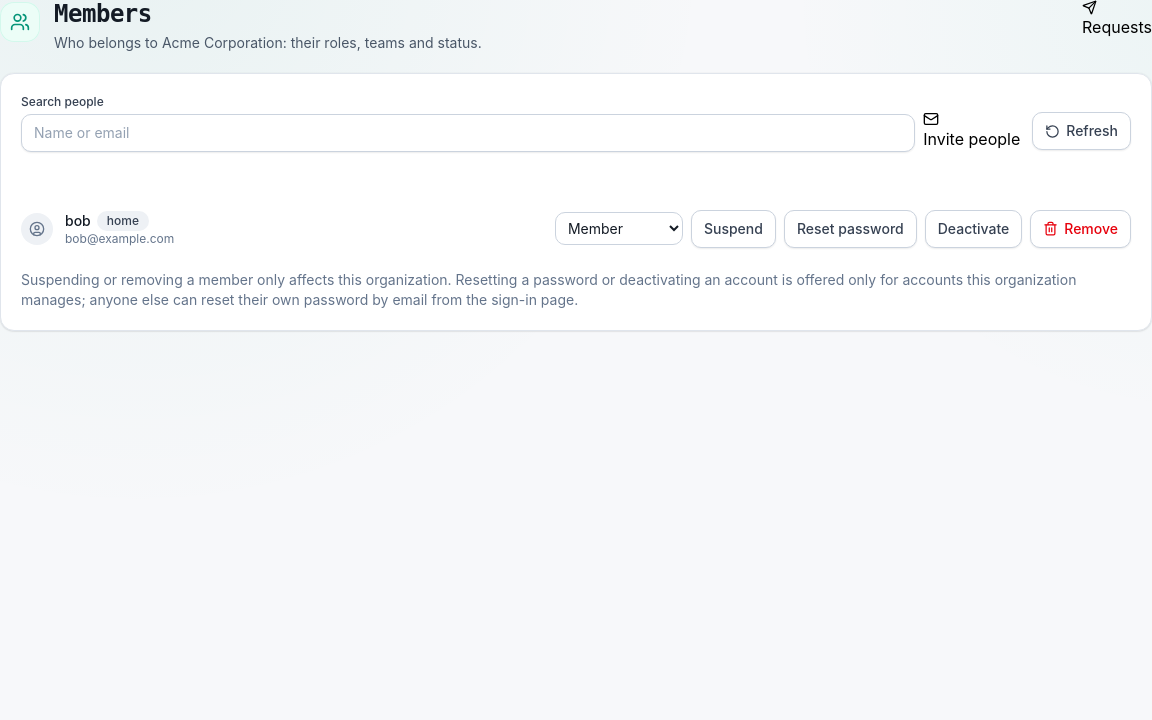
Test case: OrgUsersPage › resets a resettable account's password through the org-scoped route
Click the button "Reset password".
click(850, 229)  # box [784,210,917,248]
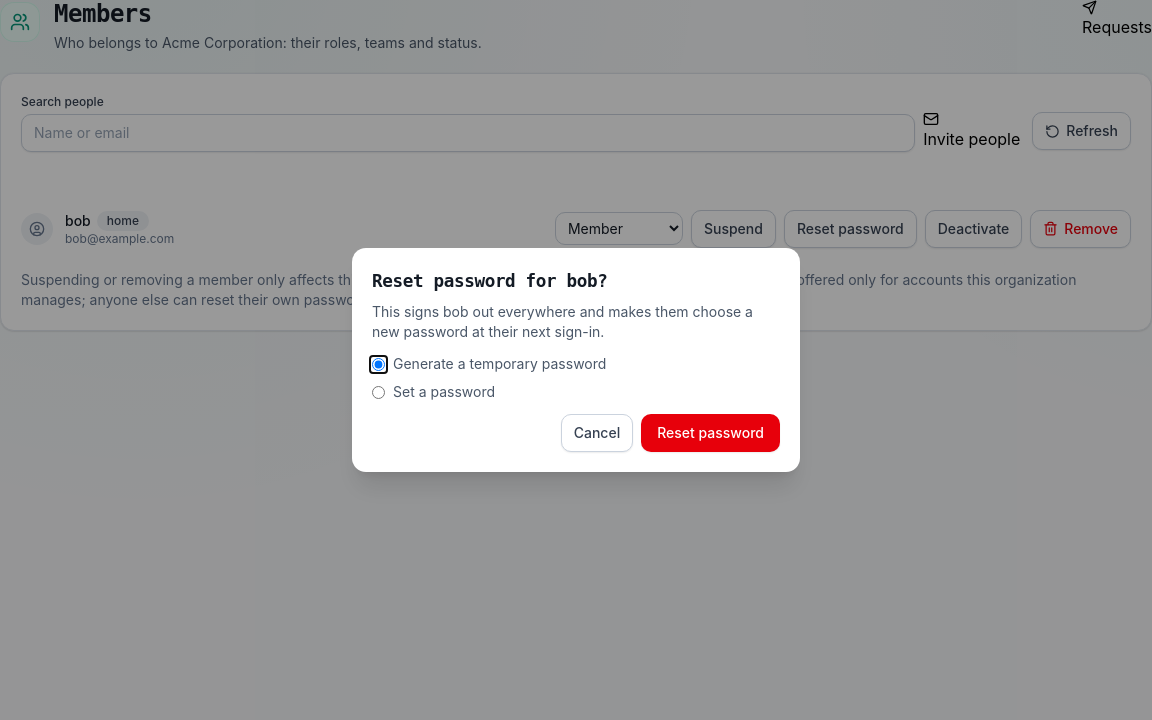
Click the button "Reset password".
click(711, 433)  # box [641,414,780,452]
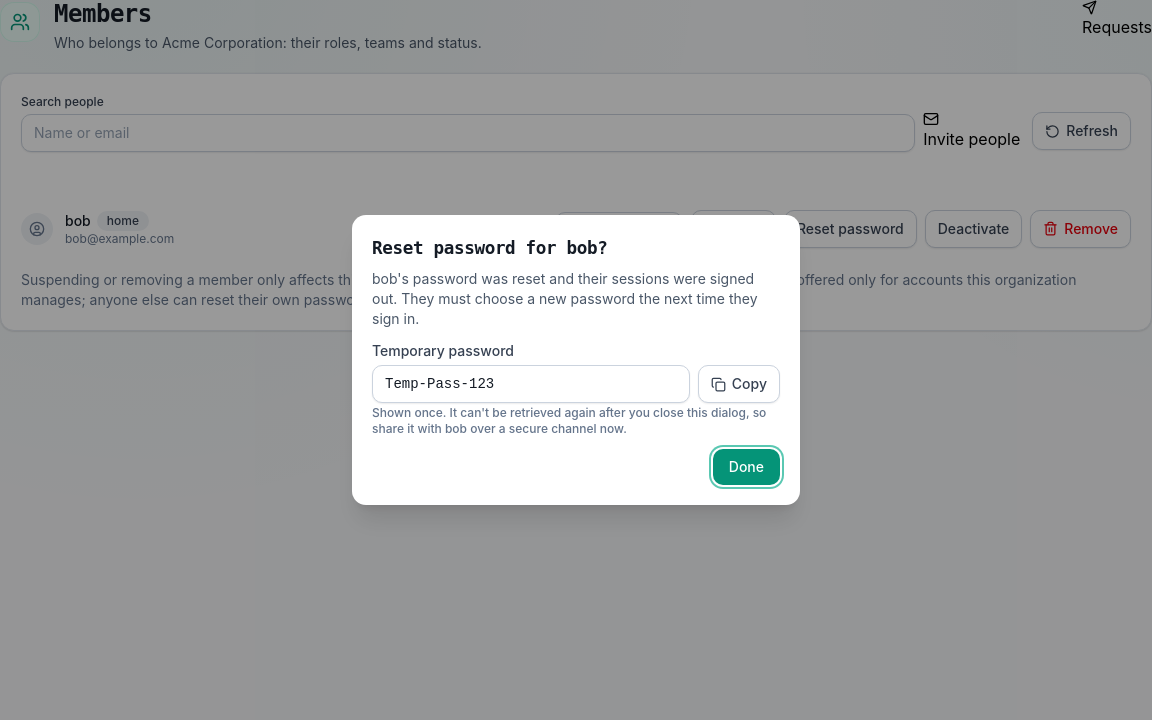
Now the field labelled "Temporary password" holds "Temp-Pass-123", box [372,365,690,403]
